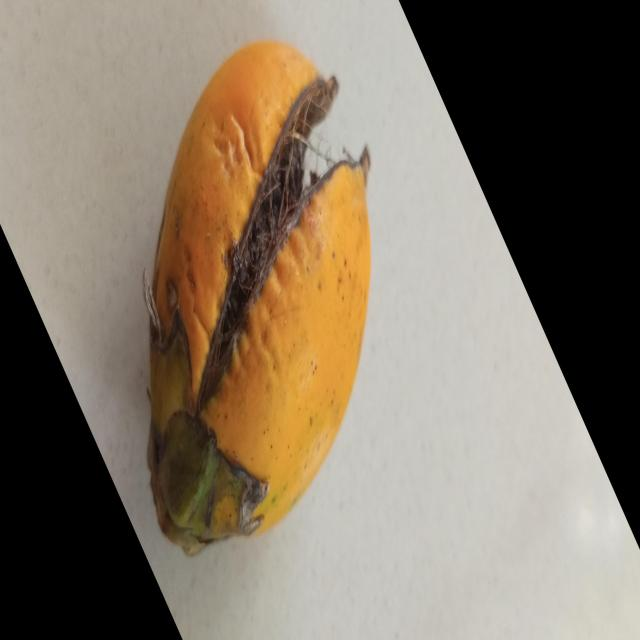damaged: (148, 41, 373, 558)
